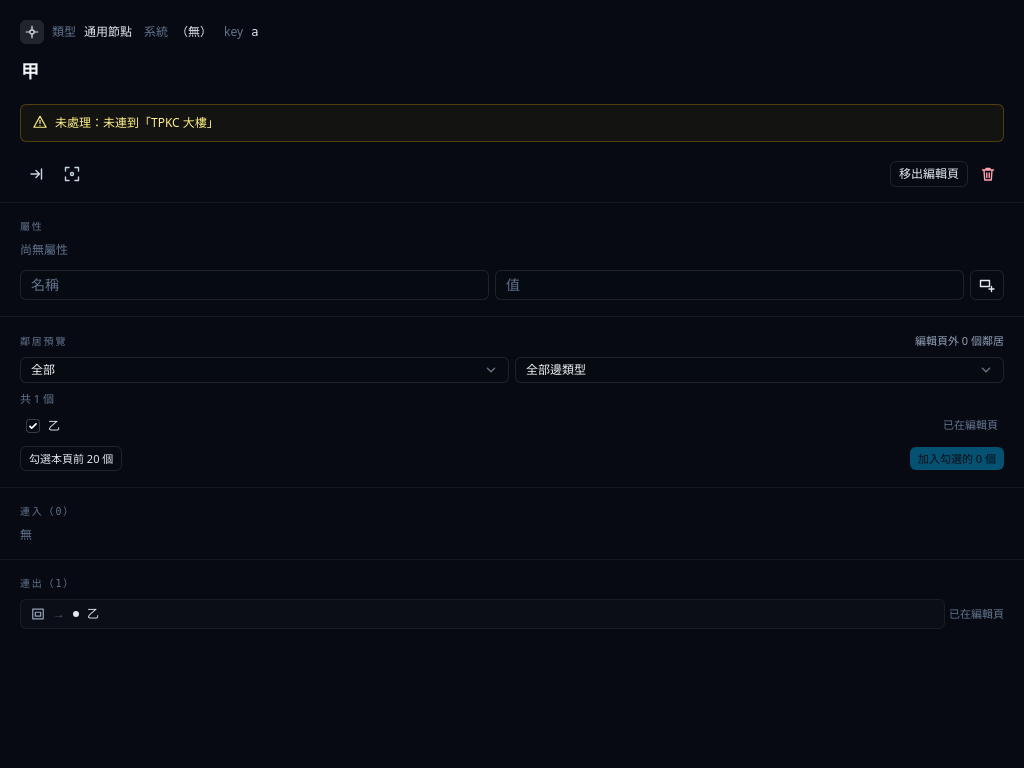
DetailPanel：屬性即時保存（T-B12） › 沒有儲存按鈕；欄位沒離開就切換選取，編輯仍寫回
Replace the text in the field named "名稱" with "甲改": [506, 71] box top-left (14, 50), bottom-right (998, 92)
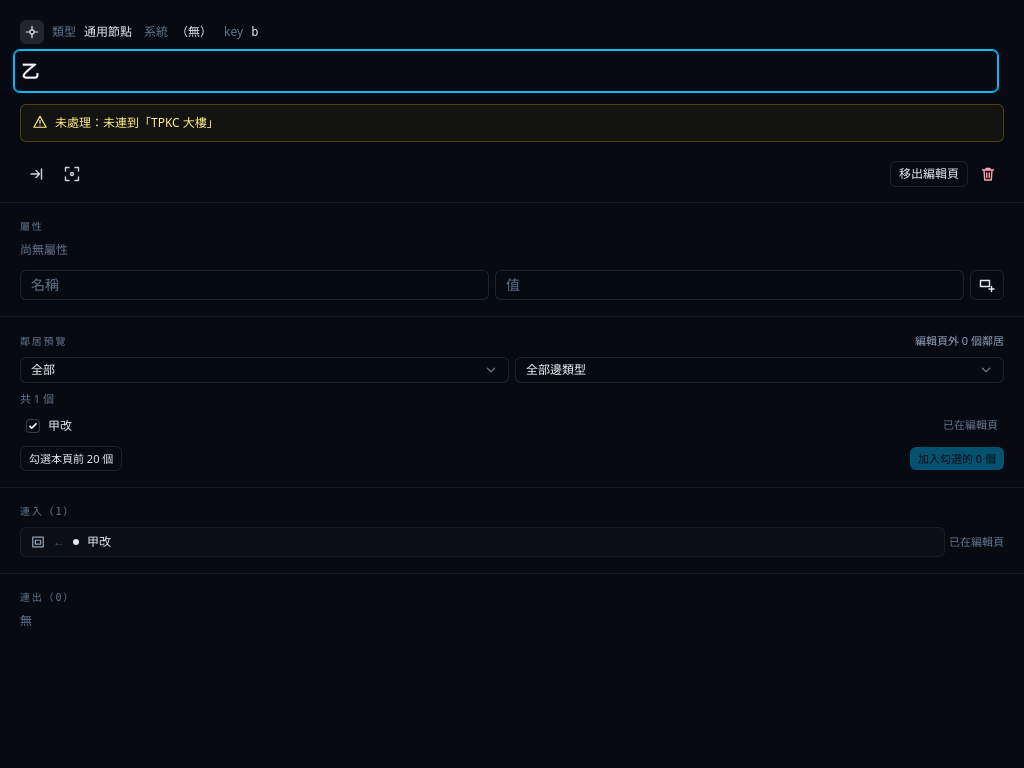
Result: the field named "名稱" holds "乙" at top-left (14, 50), bottom-right (998, 92)
